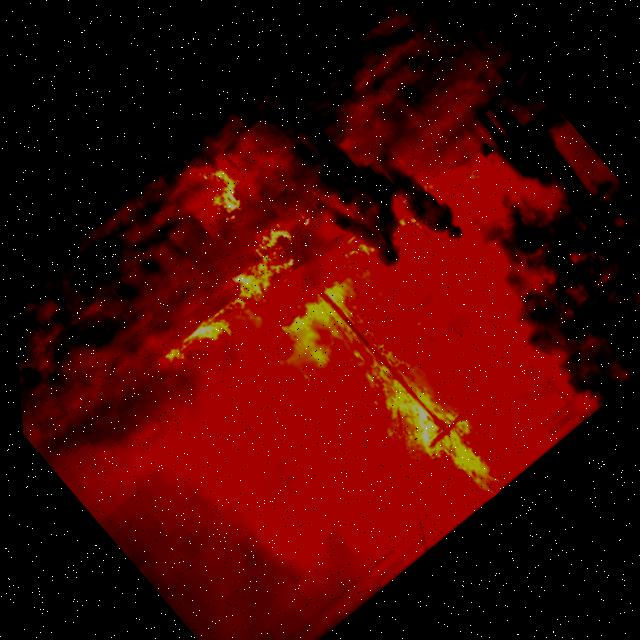Fire: (136, 196, 533, 596), (185, 150, 266, 230)
